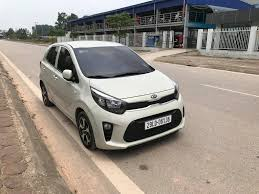Bien-so: (145, 116, 172, 131)
